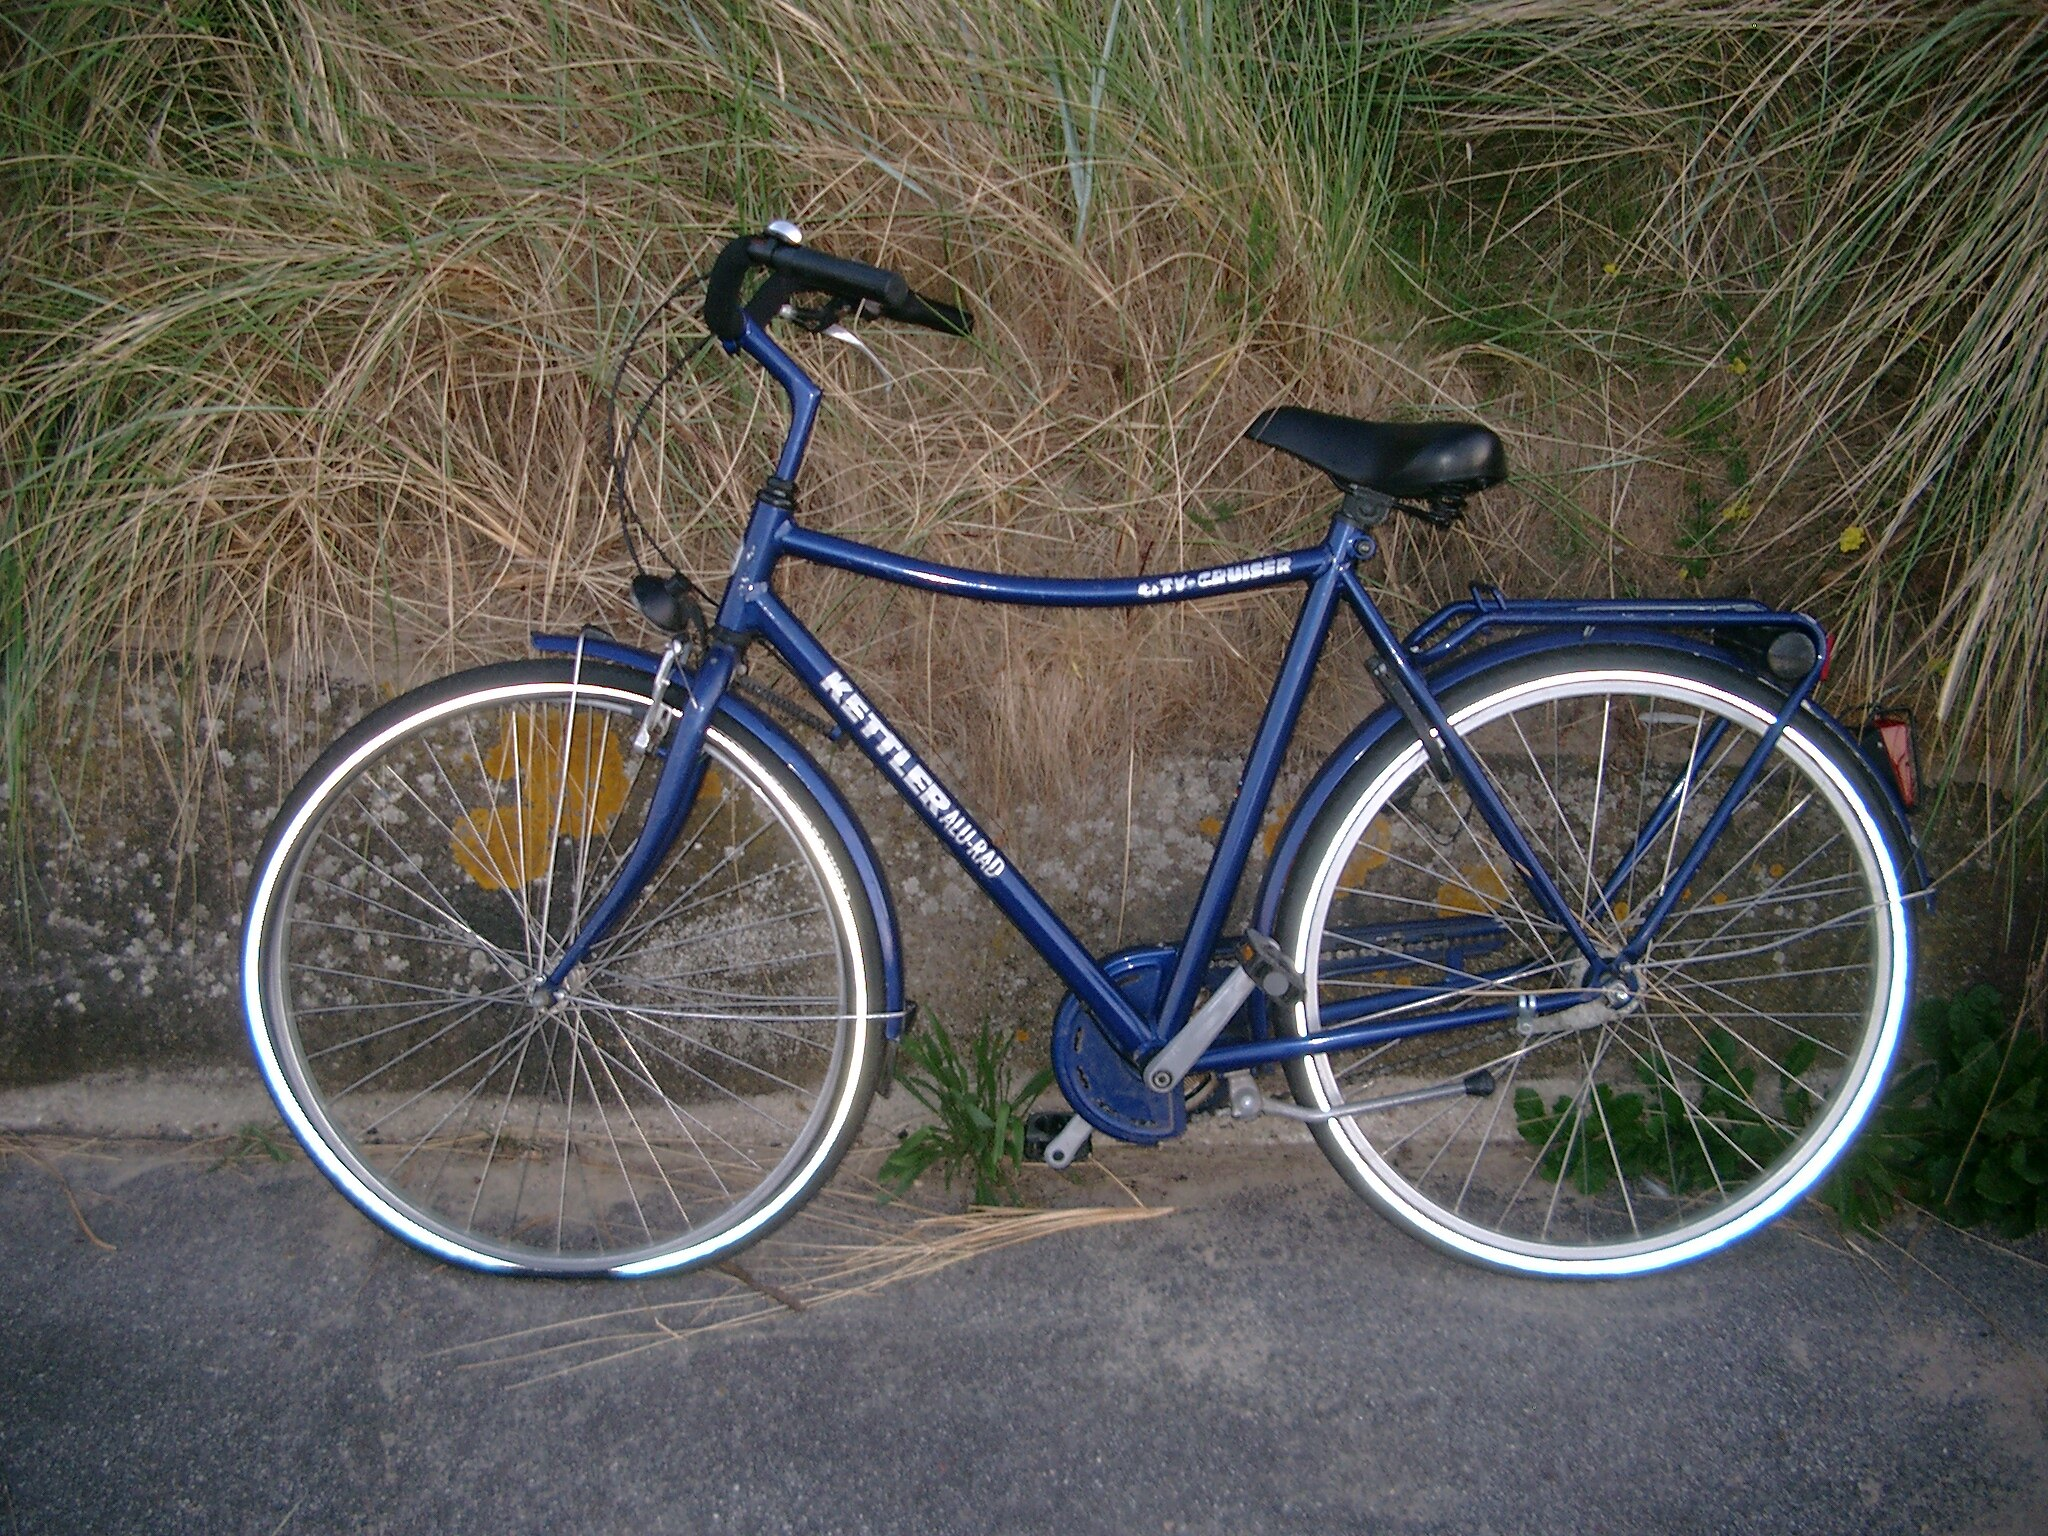bicycle: (176, 216, 1958, 1276)
